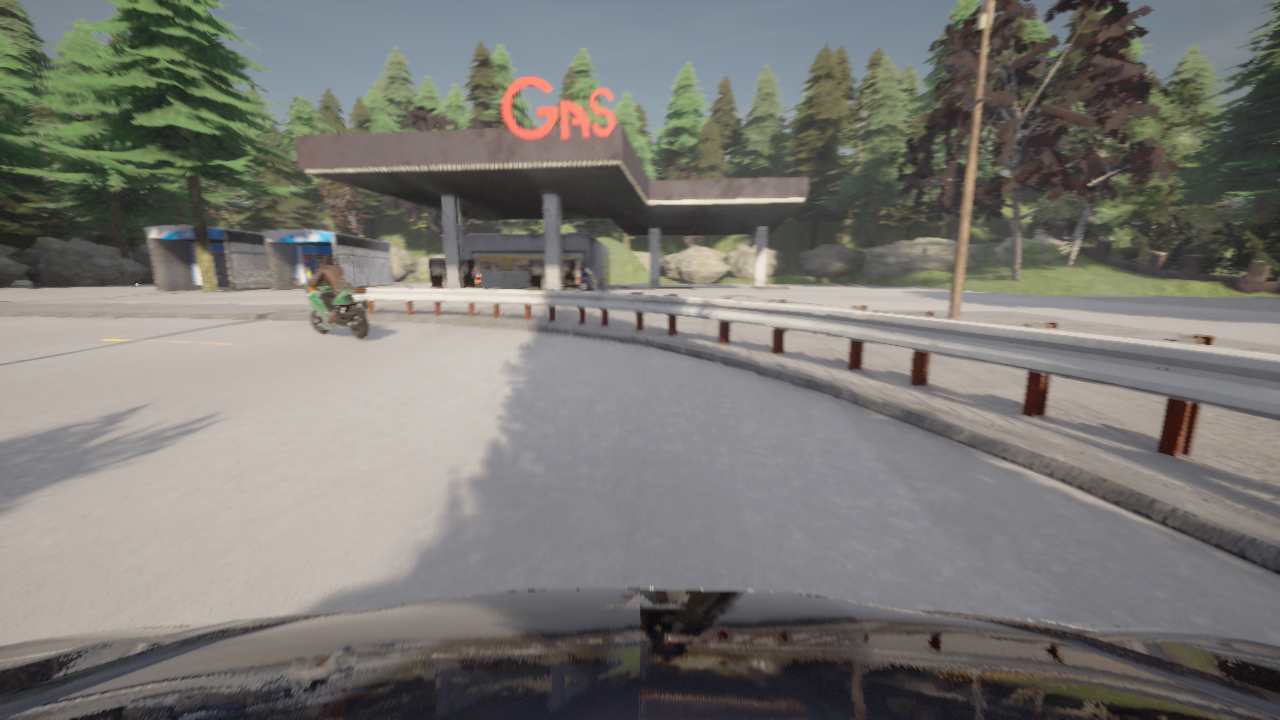cyclist: (0, 588, 1279, 719), (291, 276, 371, 339), (580, 267, 595, 290)
